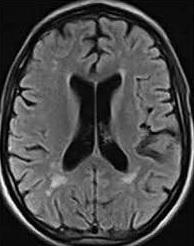Normal_Brain: (1, 1, 192, 246)
